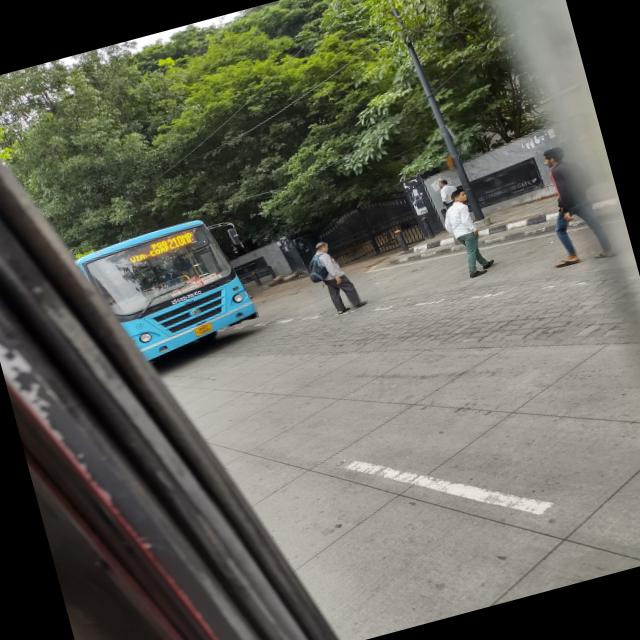bus: (58, 190, 285, 387)
display: (78, 224, 212, 280)
dnumber: (164, 230, 196, 250)
